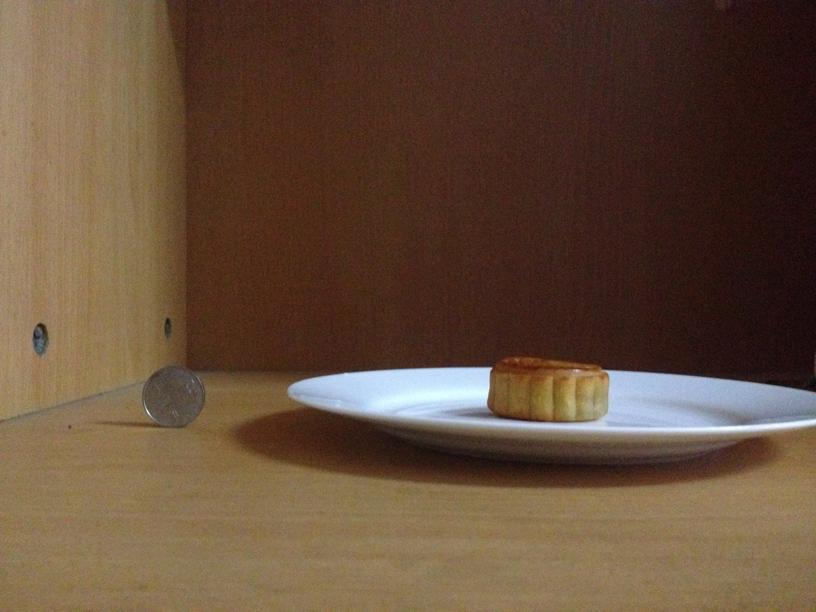coin: (138, 365, 205, 427)
mooncake: (486, 352, 610, 422)
